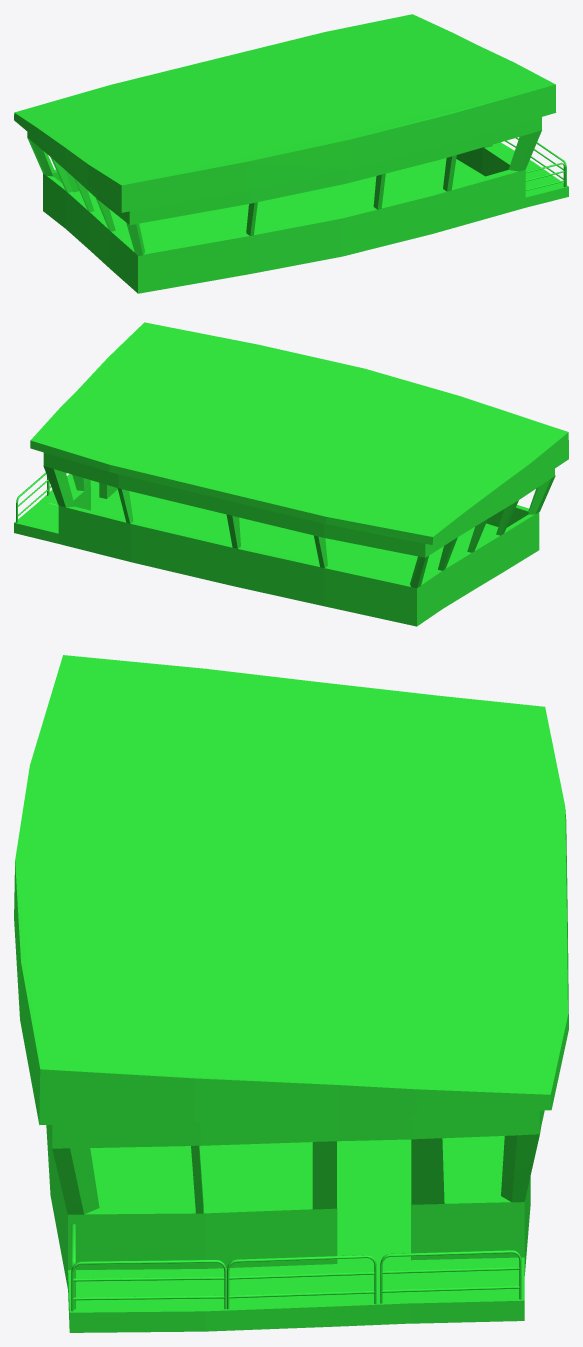
The model's file is stuurhutje2.FBX.
The picture shows the model from 3 angles, top to bottom: view 1: azimuth 30°, elevation 25°; view 2: azimuth 150°, elevation 25°; view 3: azimuth 270°, elevation 25°; orthographic projection. The views are drawn at different scales.
Visible parts, largest first — view 1: buitenkant; view 2: buitenkant; view 3: buitenkant, Rectangle002, Rectangle003, Rectangle004.
Part boxes in pixels (<box>): buitenkant: <box>14,14,568,293</box>; buitenkant: <box>14,322,568,626</box>; buitenkant: <box>14,655,568,1332</box>; Rectangle002: <box>71,1259,226,1311</box>; Rectangle003: <box>227,1255,376,1309</box>; Rectangle004: <box>380,1250,521,1303</box>.
Size of the model in its own units: 16.7 by 4.41 by 9.
